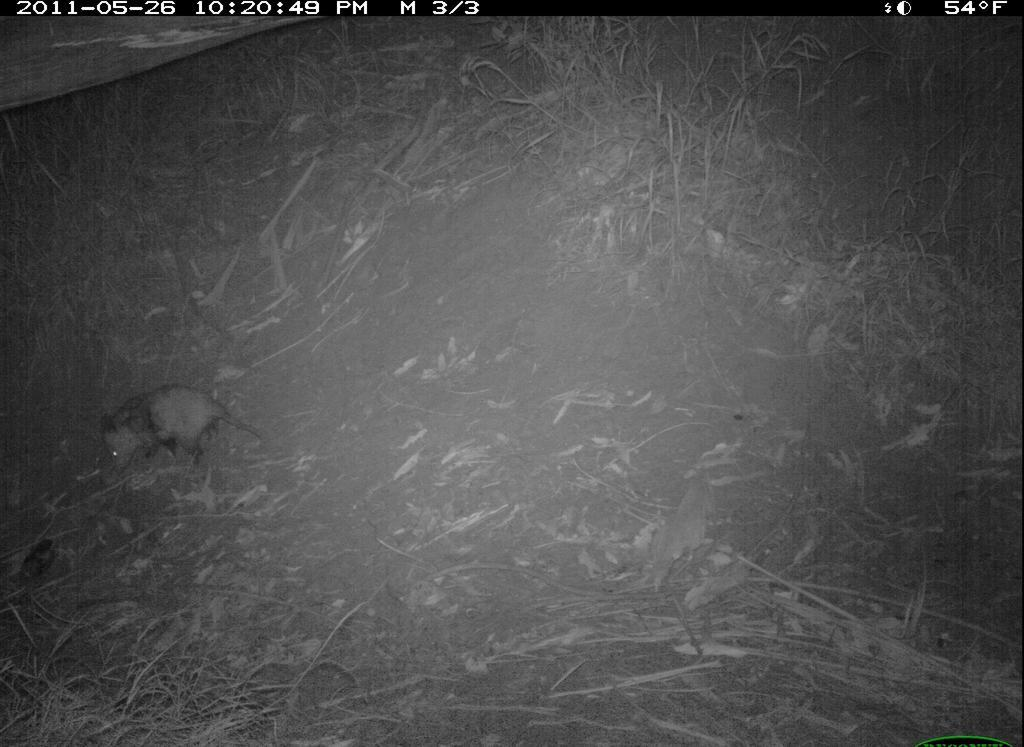opossum: (90, 376, 282, 482)
